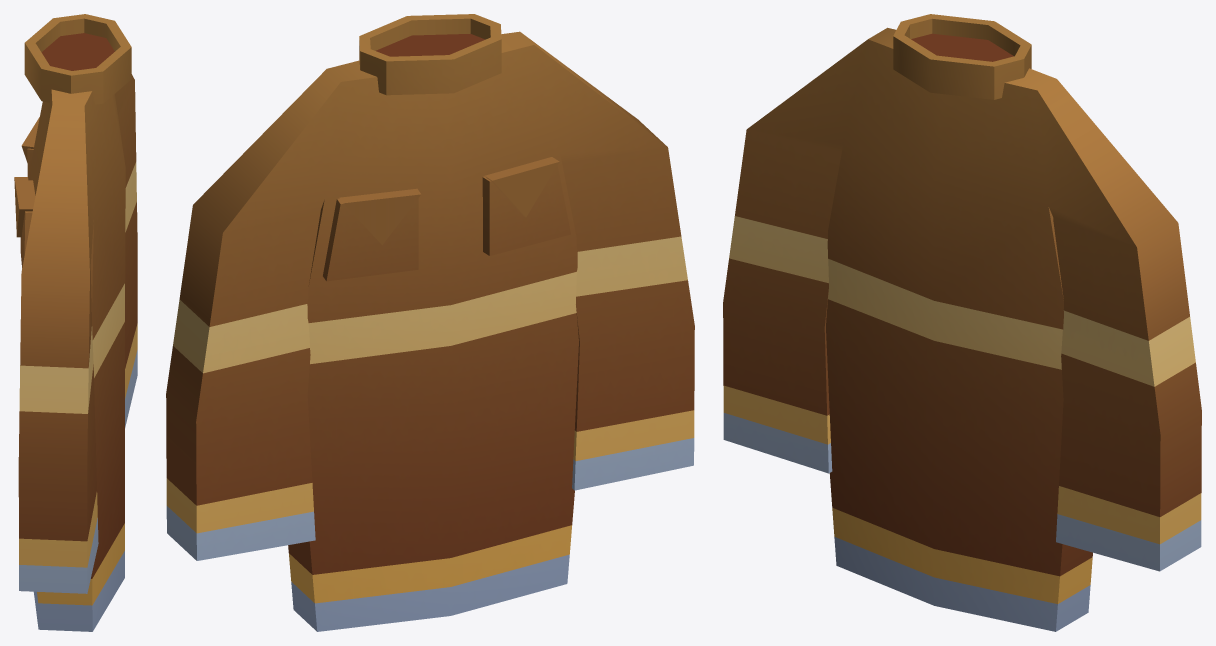
Rendered from Jacket.fbx.
3 views of the same model, side by side, from view 1: azimuth 30°, elevation 25°; view 2: azimuth 150°, elevation 25°; view 3: azimuth 270°, elevation 25° (orthographic). The views are drawn at different scales.
Parts seen in each view (by area): view 1: Jacket; view 2: Jacket; view 3: Jacket.
Boxes of the visible parts, bbox=[...] form: Jacket: bbox=[14, 14, 137, 631]; Jacket: bbox=[166, 14, 694, 631]; Jacket: bbox=[723, 14, 1201, 631].
Bounding box in the file's own units: 66.86 × 86.41 × 109.
